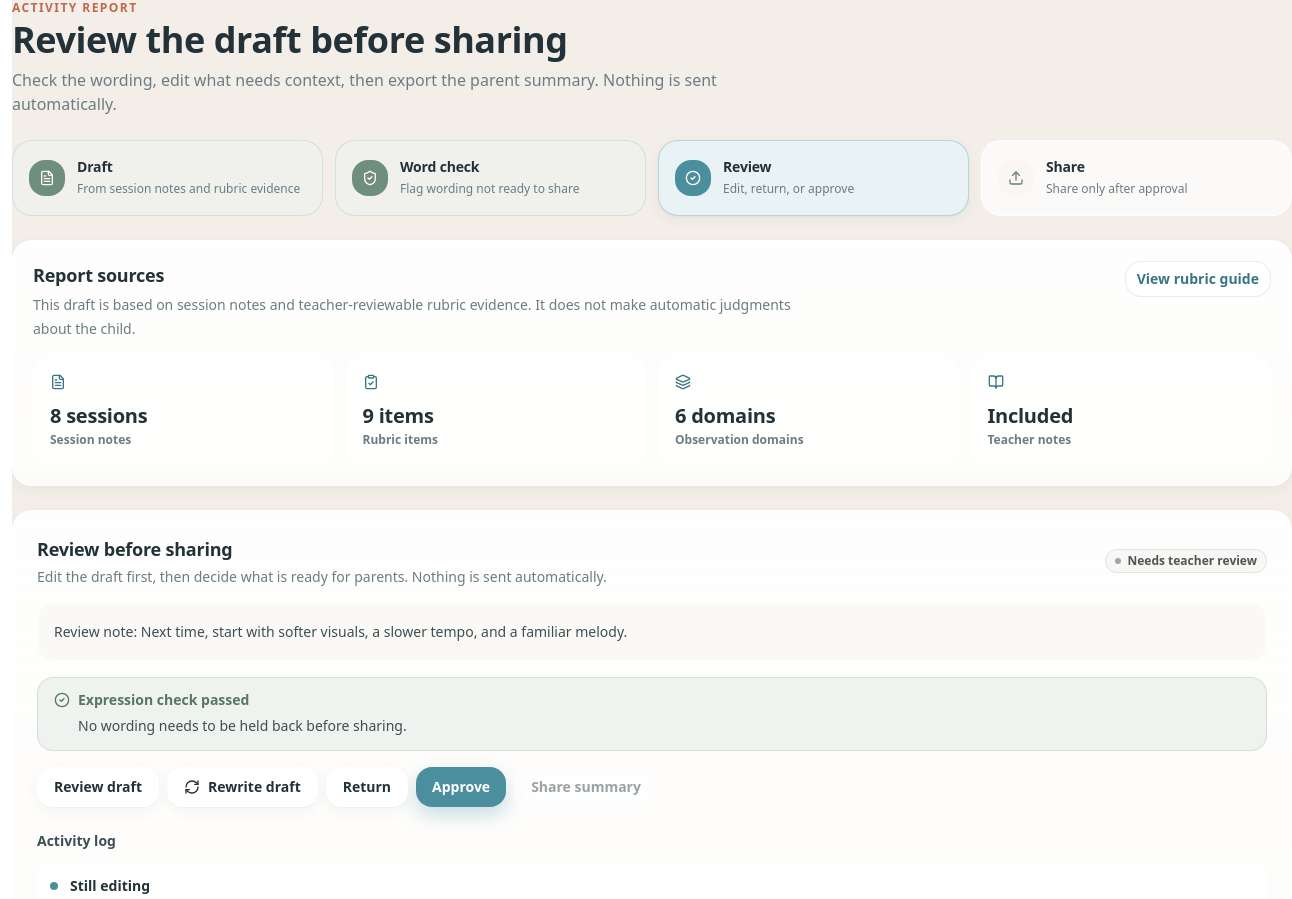
Test case: core pages › shows English audit copy for newly approved reports in English mode
The width and height of the screenshot is (1292, 899).
What coordinates should you click on to do the following:
click the button "Approve"
I would click on:
 (461, 787)
Its box is [416,767,506,807].
(page scrolled)
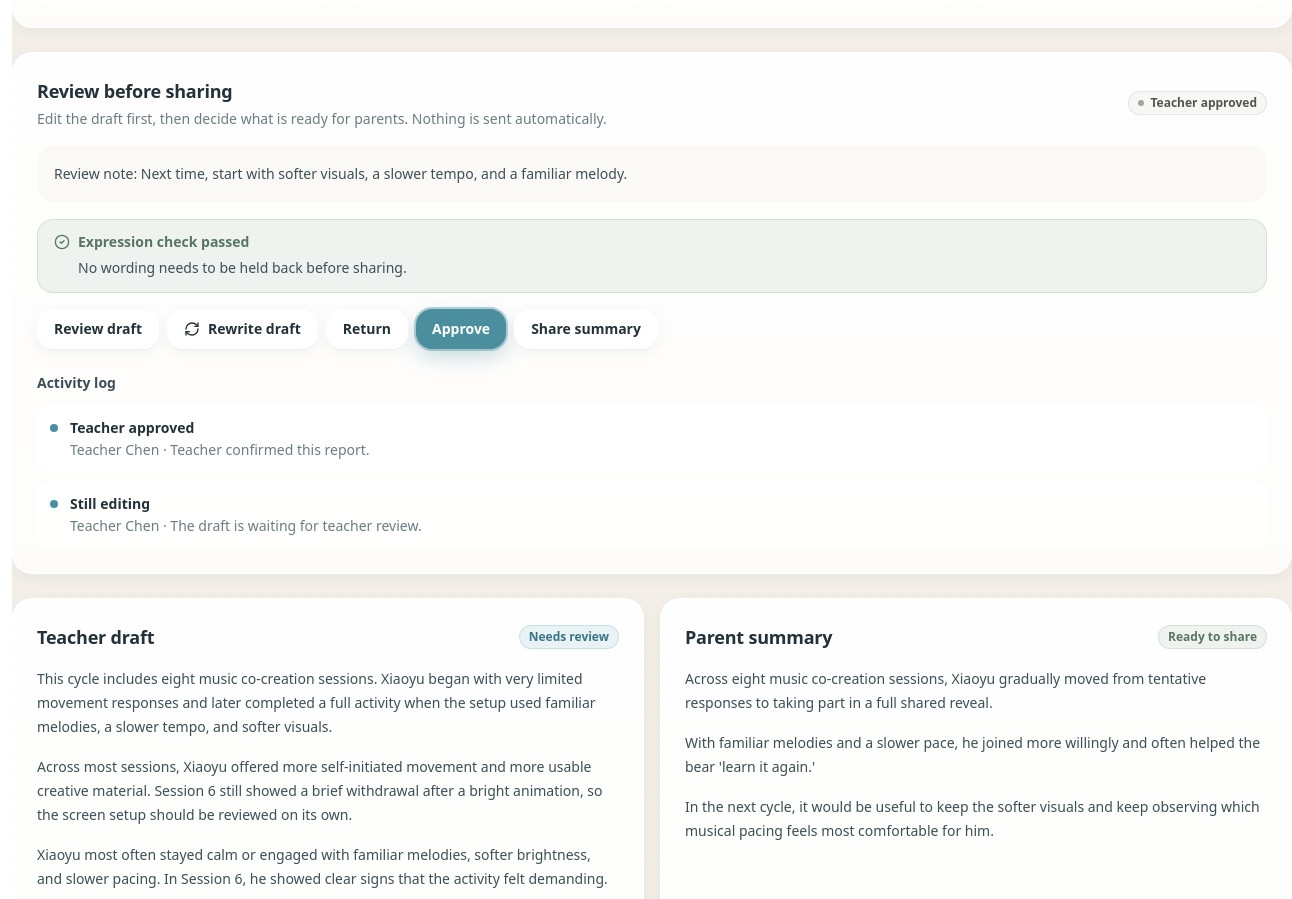
Check: the text "Teacher Chen · Teacher confirmed this report." is shown, box [70,440,370,460]
